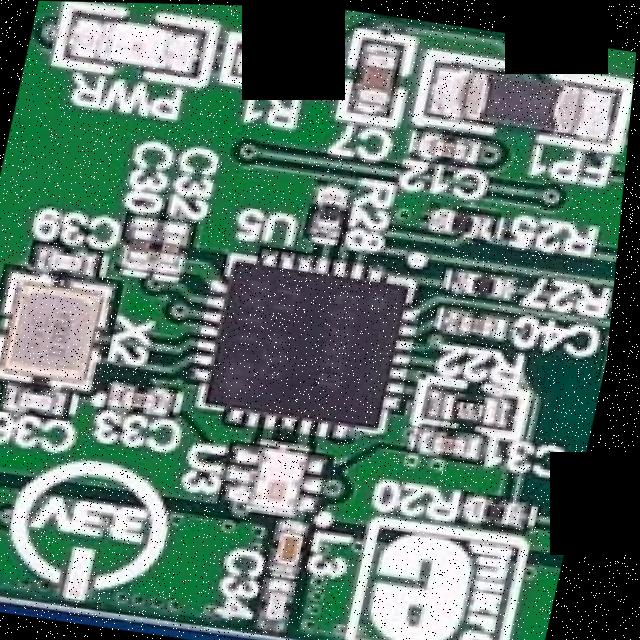IC: (188, 243, 431, 445)
LED: (79, 11, 205, 80)
capacitor 1V5: (445, 57, 588, 135), (338, 38, 407, 115), (422, 126, 484, 157), (431, 429, 495, 457), (128, 220, 164, 264), (155, 223, 192, 264)
clock Q1: (0, 270, 112, 385)
resistor IR1: (435, 382, 525, 426), (243, 45, 321, 85), (314, 185, 353, 226), (437, 204, 489, 233)
